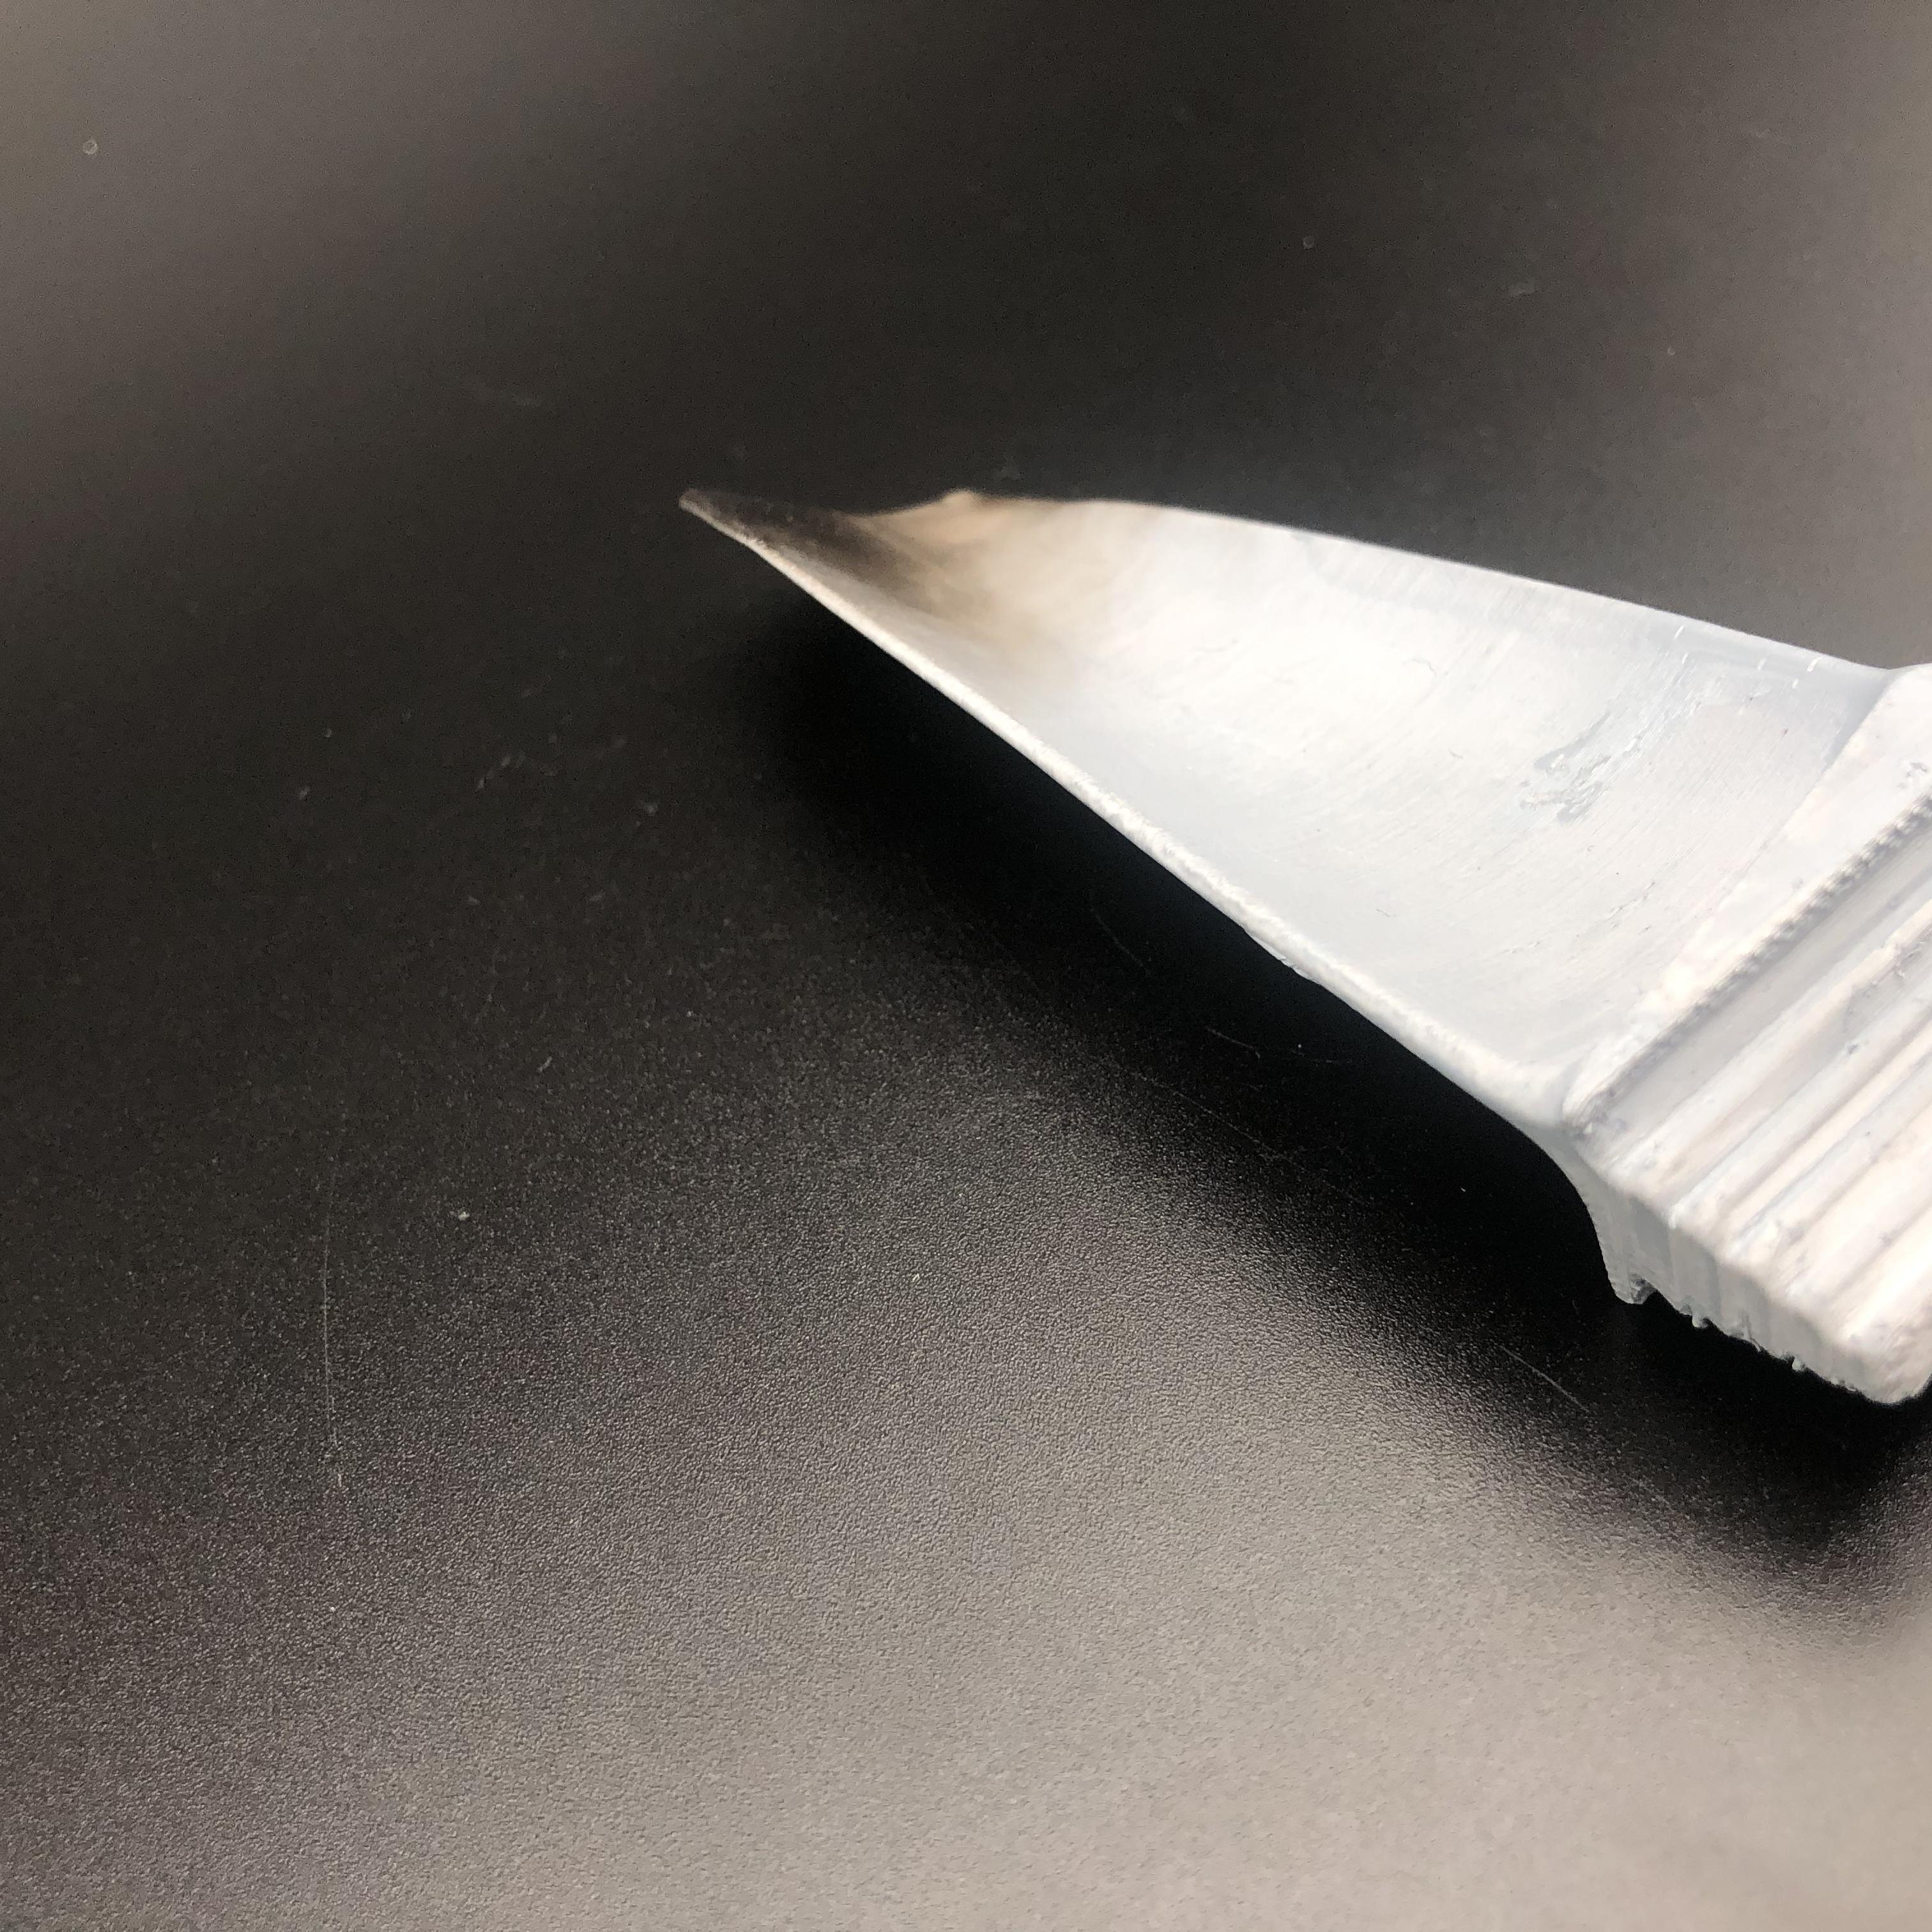ablation: (724, 481, 1021, 639)
